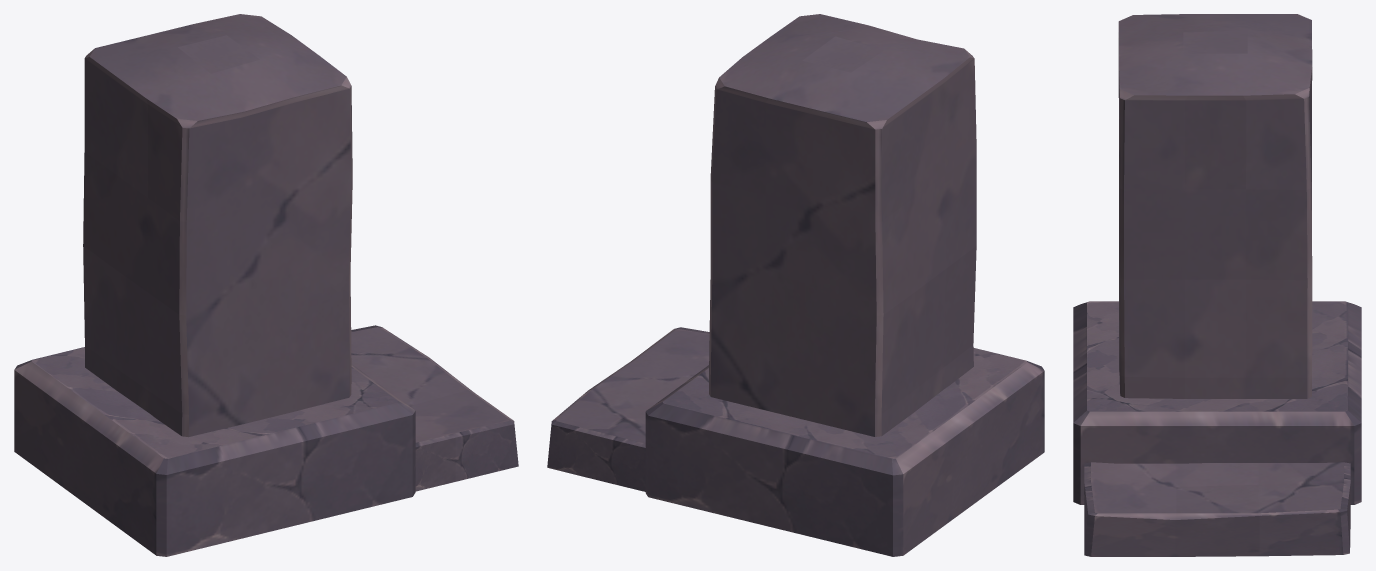
File: Stone_tower.FBX
3 renders of one model, left to right at view 1: azimuth 30°, elevation 25°; view 2: azimuth 150°, elevation 25°; view 3: azimuth 270°, elevation 25°, orthographic. The views are drawn at different scales.
Parts seen in each view (by area): view 1: Box013; view 2: Box013; view 3: Box013.
Part boxes in pixels (x1,y1,x2,y2): Box013: (14, 14, 518, 556); Box013: (547, 14, 1044, 556); Box013: (1073, 14, 1361, 556).
Size of the model in its own units: 4.96 by 5.42 by 3.49.
1 material, 1 textured.
